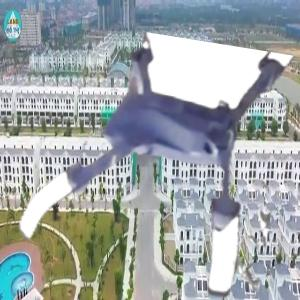drone: (17, 35, 280, 298)
